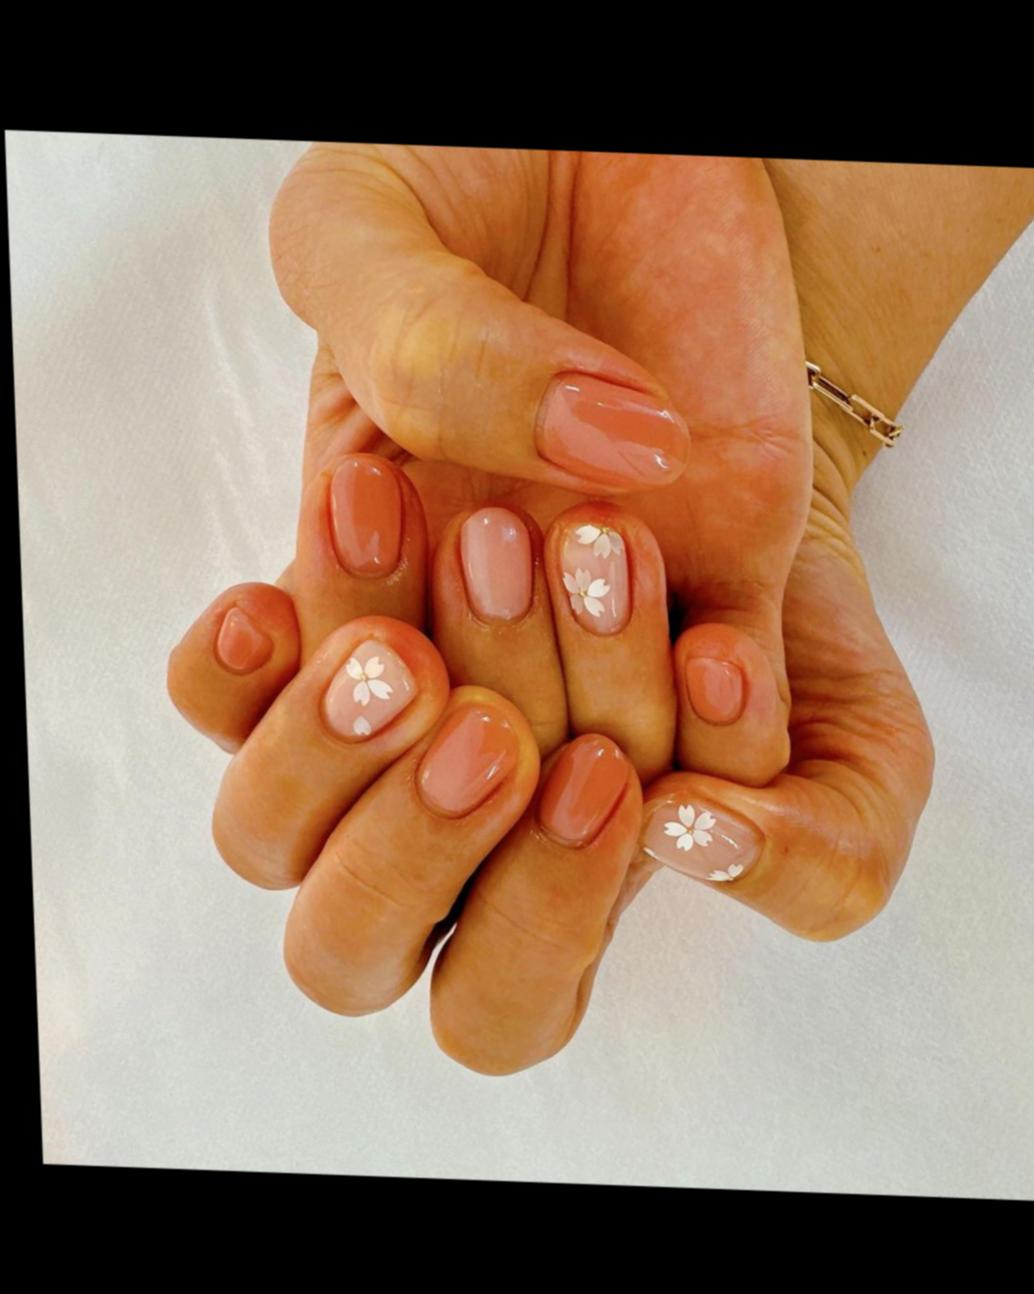nail: (528, 370, 692, 494), (409, 699, 523, 823), (528, 732, 634, 854), (312, 637, 420, 748), (637, 796, 765, 886), (320, 452, 407, 582), (453, 505, 535, 628), (555, 520, 632, 640), (681, 656, 748, 729), (210, 607, 273, 677)
